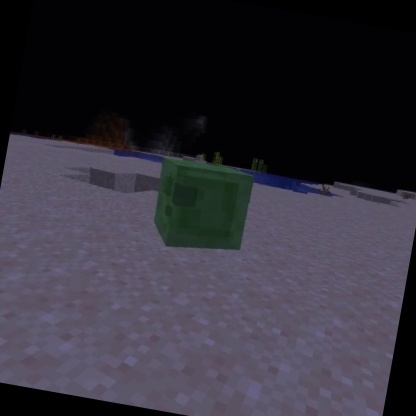slime: (143, 153, 259, 263)
